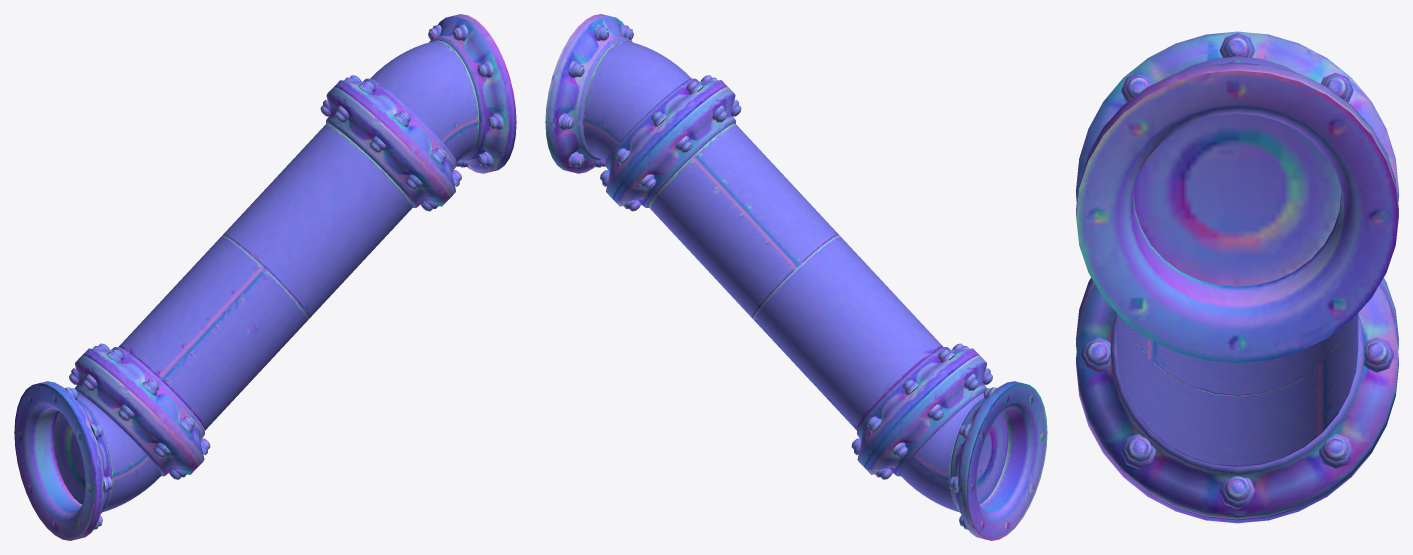
The model's file is Pipe_D160_A_Stairs_400x300_A.fbx.
3 views of the same model, side by side, from view 1: azimuth 30°, elevation 25°; view 2: azimuth 150°, elevation 25°; view 3: azimuth 270°, elevation 25° (orthographic). The views are drawn at different scales.
Parts seen in each view (by area): view 1: Geom_Pipe_D160_A_Stairs_400x300_A_LOD00; view 2: Geom_Pipe_D160_A_Stairs_400x300_A_LOD00; view 3: Geom_Pipe_D160_A_Stairs_400x300_A_LOD00.
Part boxes in pixels (x1,y1,x2,y2): Geom_Pipe_D160_A_Stairs_400x300_A_LOD00: (14, 14, 516, 540); Geom_Pipe_D160_A_Stairs_400x300_A_LOD00: (545, 14, 1047, 540); Geom_Pipe_D160_A_Stairs_400x300_A_LOD00: (1076, 31, 1398, 523).
Size of what is drawn, in the model's own units: 497 by 165 by 465.
